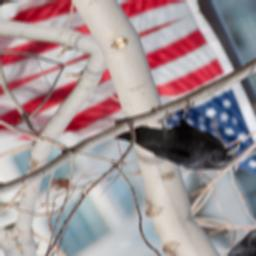Crow: (105, 86, 249, 202)
